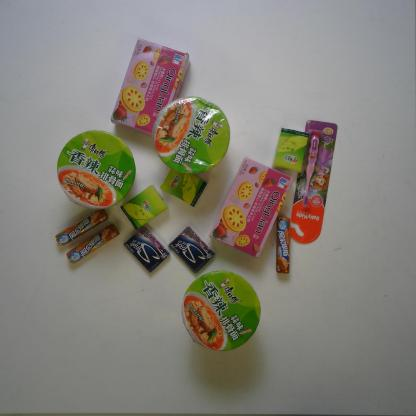Candy: (66, 223, 120, 264), (54, 208, 109, 247), (276, 215, 291, 274)
Dessert: (207, 154, 294, 258), (109, 37, 191, 138)
Gum: (167, 225, 216, 273), (124, 224, 171, 274)
Instant Noodles: (56, 128, 137, 213), (181, 269, 262, 352), (152, 95, 233, 176)
Personal Hygiene: (290, 119, 338, 244)
Tissue: (120, 184, 168, 231), (160, 168, 208, 208), (271, 127, 310, 173)
